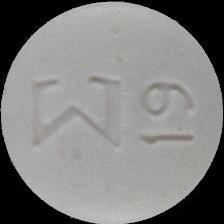51655-641: (0, 0, 224, 224)
